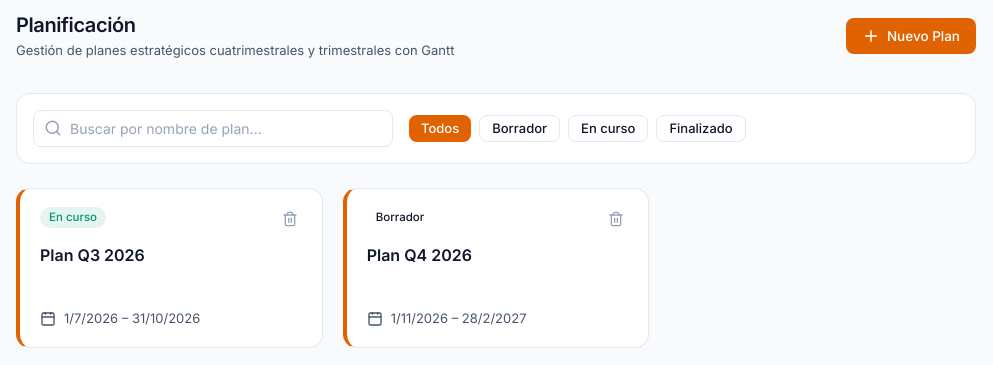
Scenario: Componente Planificacion › debe filtrar planes por estado al hacer click en los botones de filtro
The image size is (993, 365).
Check: the heading "Plan Q3 2026" is shown, box [40,244,145,264]
Check: the heading "Plan Q4 2026" is shown, box [367,244,472,264]
Step 1. Click the button "Borrador" → coordinates (520, 128), box [479,114,560,142]
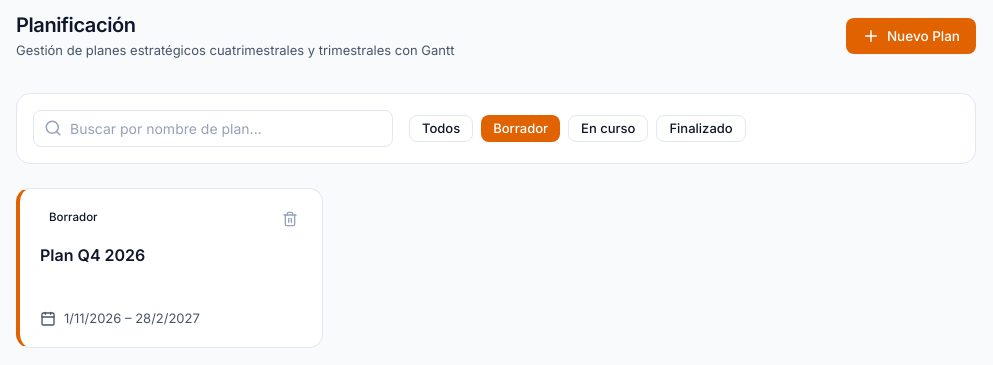
Check: the heading "Plan Q4 2026" is shown, box [40,244,145,264]
Check: the link "Plan Q3 2026" is gone
